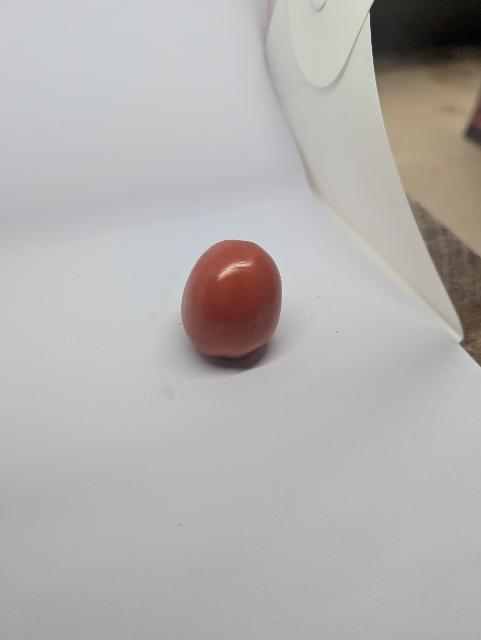red: (170, 230, 295, 376)
